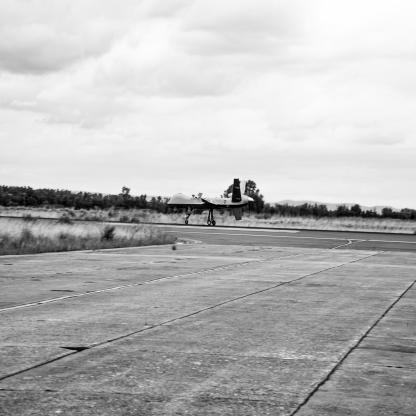MQ9: (165, 179, 256, 226)
